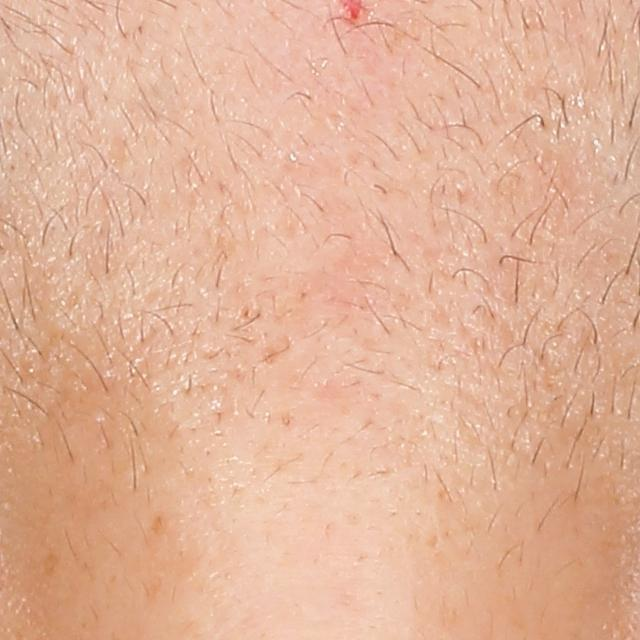melasma: (41, 548, 61, 581)
